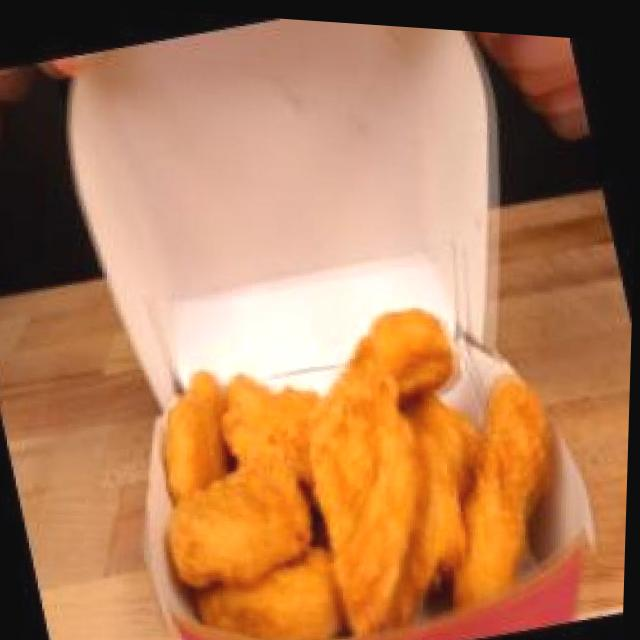nugget: (105, 223, 602, 640)
